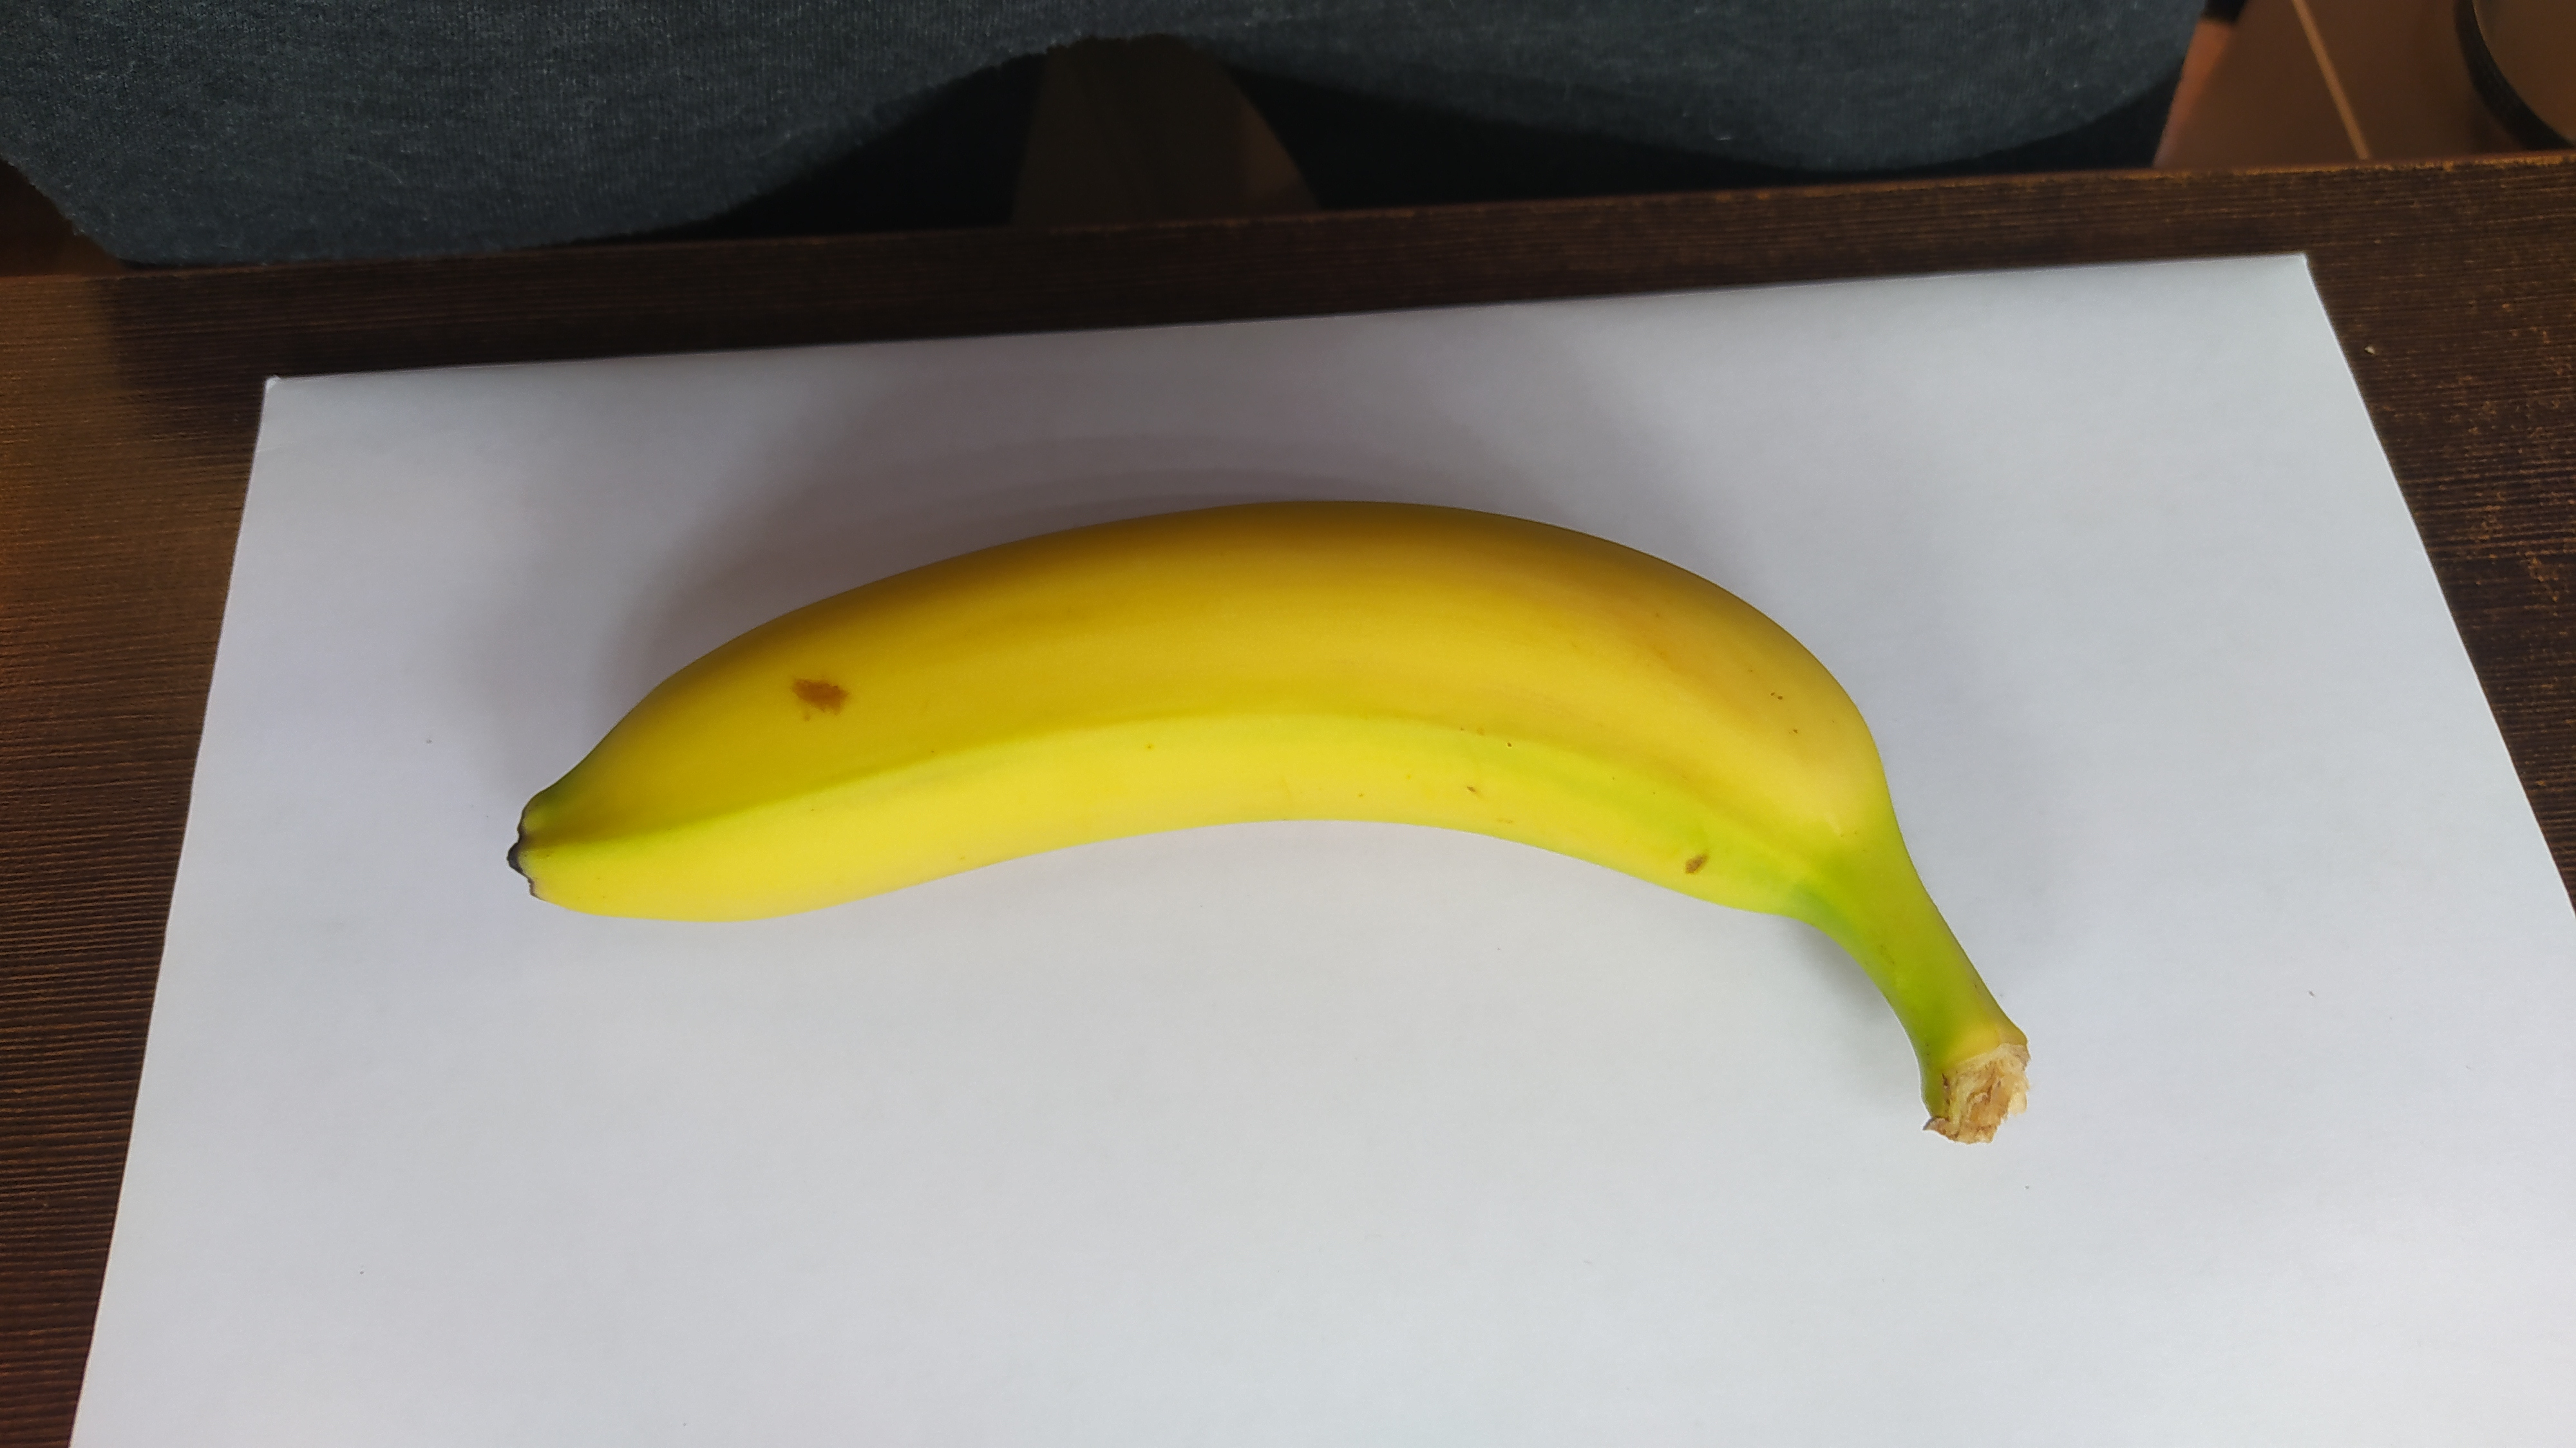banana: (502, 497, 2033, 1151)
